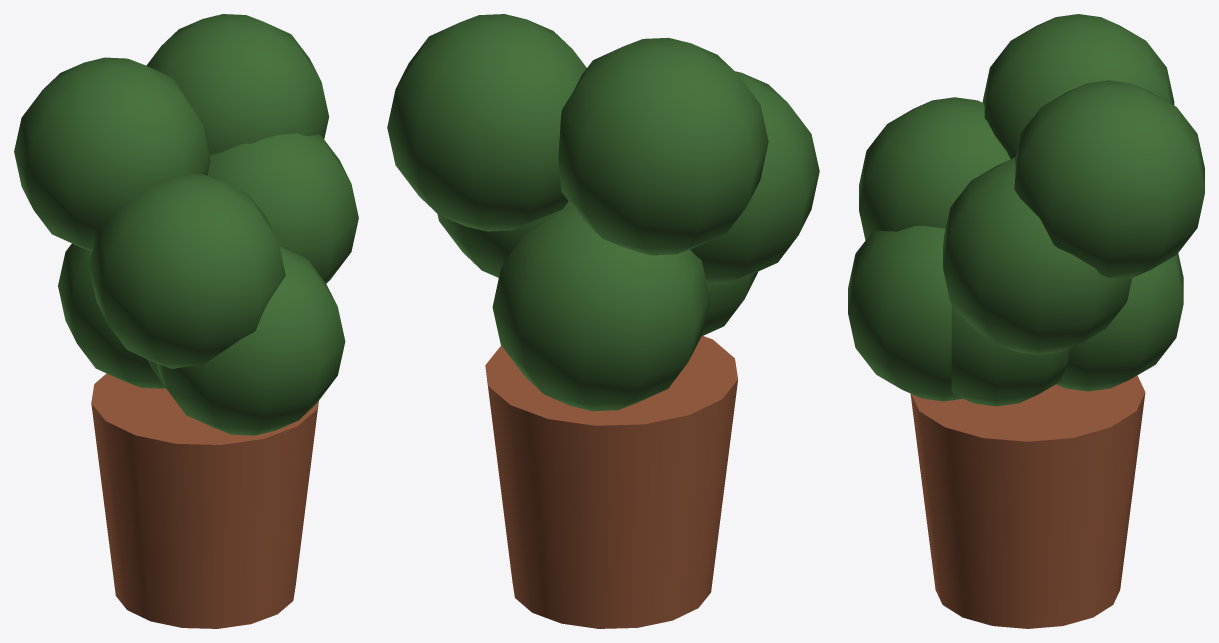
File: plant.glb
The picture shows the model from 3 angles, left to right: view 1: azimuth 30°, elevation 25°; view 2: azimuth 150°, elevation 25°; view 3: azimuth 270°, elevation 25°; orthographic projection. The views are drawn at different scales.
Size of the model in its own units: 0.4268 by 0.7 by 0.4249.
